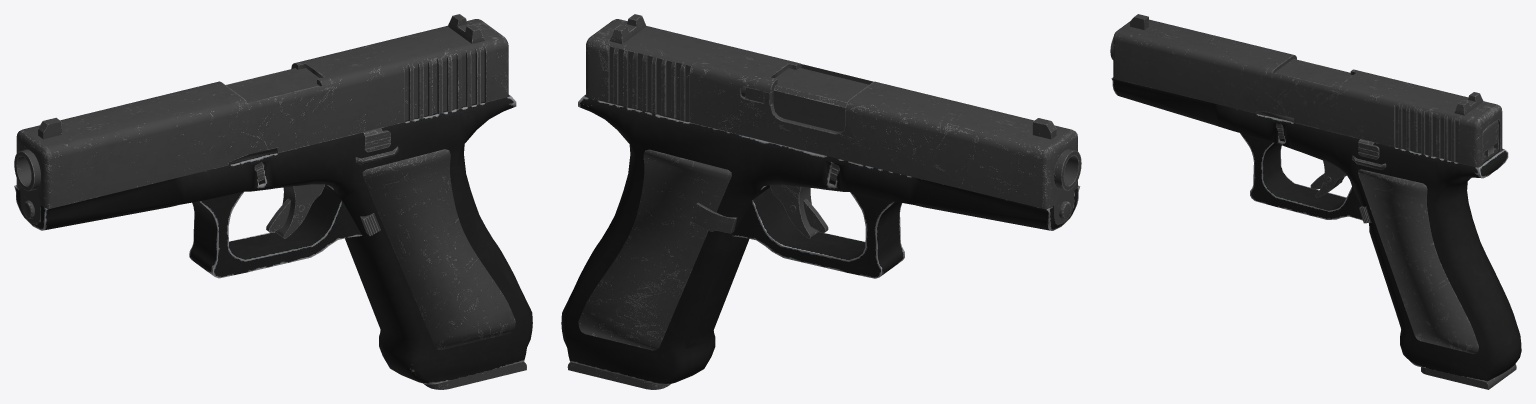
Rendered from tabanca.fbx.
The picture shows the model from 3 angles, left to right: view 1: azimuth 30°, elevation 25°; view 2: azimuth 150°, elevation 25°; view 3: azimuth 330°, elevation 25°; orthographic projection. The views are drawn at different scales.
Visible parts, largest first — view 1: Cube.005; view 2: Cube.005; view 3: Cube.005.
Boxes of the visible parts, bbox=[...] form: Cube.005: bbox=[14, 14, 532, 389]; Cube.005: bbox=[561, 14, 1081, 389]; Cube.005: bbox=[1110, 14, 1521, 389].
Bounding box in the file's own units: 240 × 158 × 33.4.
2 materials, 2 textured.
